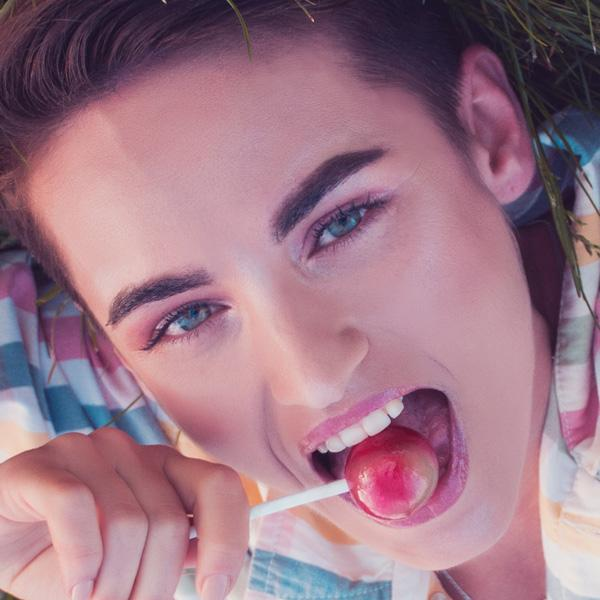Eyes: (296, 181, 396, 270), (144, 288, 240, 360)
